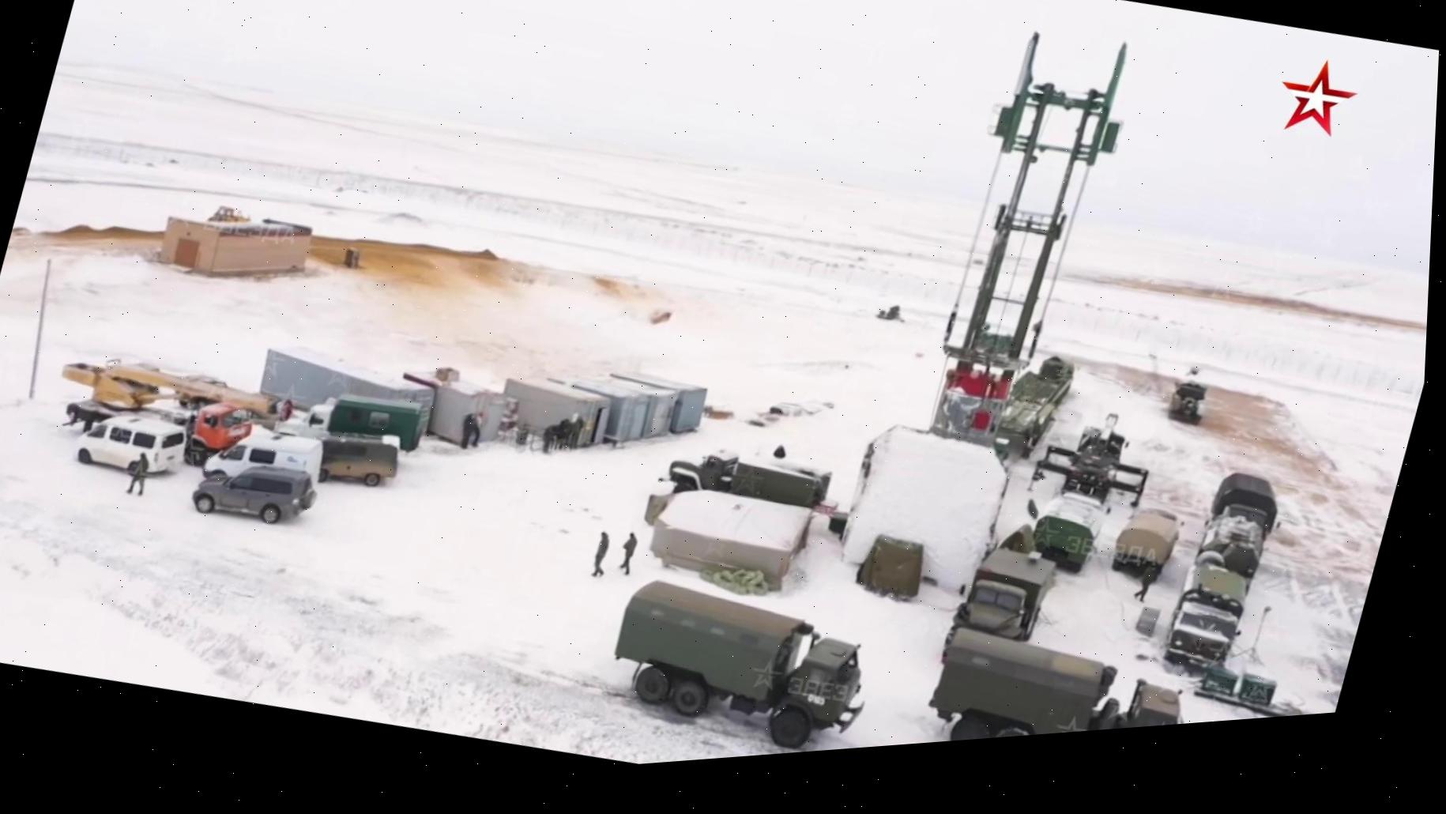car: (186, 444, 324, 537), (199, 414, 329, 504), (68, 398, 193, 489), (299, 414, 407, 500)
person: (124, 449, 153, 497), (587, 528, 614, 579), (1132, 557, 1160, 603), (615, 529, 639, 575)
truck: (592, 556, 890, 767), (912, 604, 1218, 744), (940, 533, 1060, 666), (1159, 554, 1256, 675), (1020, 482, 1111, 579), (1054, 411, 1139, 511), (1108, 497, 1188, 583), (1207, 464, 1293, 540), (1162, 366, 1217, 431)
